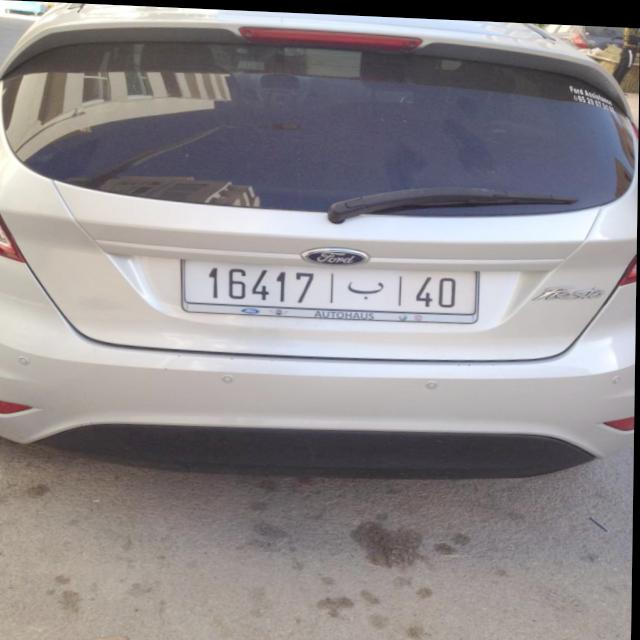License-Plate: (186, 259, 478, 311)
